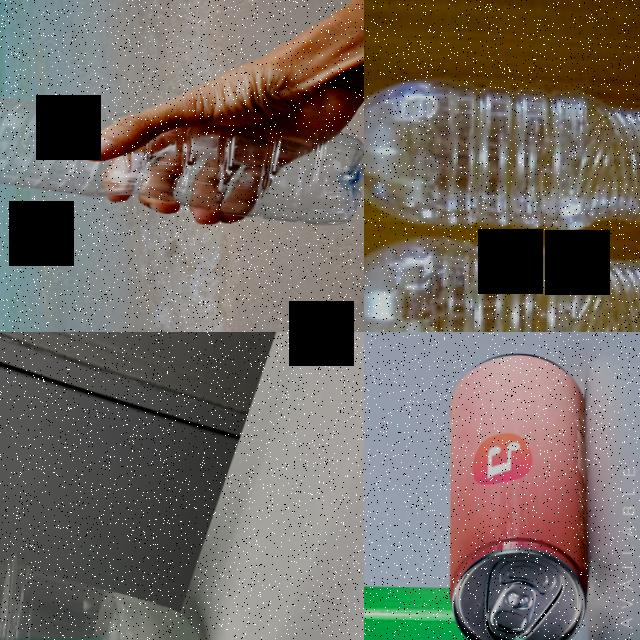bottle: (0, 92, 364, 227), (364, 72, 640, 243), (364, 230, 640, 332)
can: (444, 350, 591, 640)
cup: (0, 544, 212, 640)
